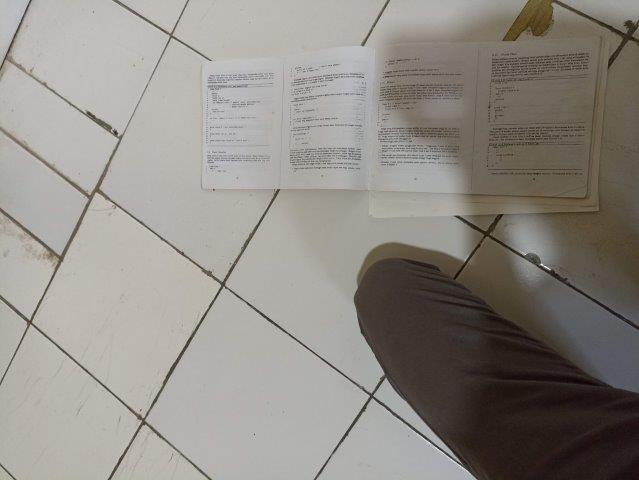kertas: (202, 36, 610, 218)
